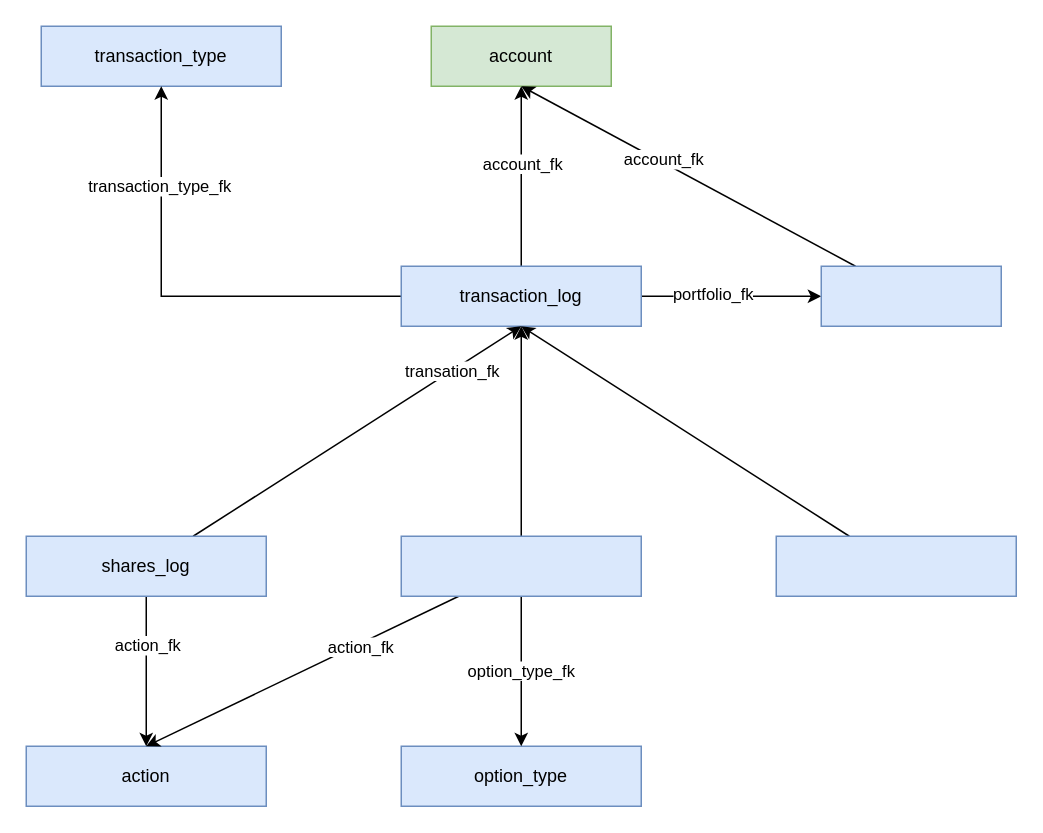
Image size: 1043x833. Some labels were removed from this diagram. The shapes that lost their labels are listed below. From the top down, each one's centre as x and y in pixels, then its label:
At pixel 910 295: "portfolio".
At pixel 520 565: "option_log".
At pixel 895 565: "dividend_log".
